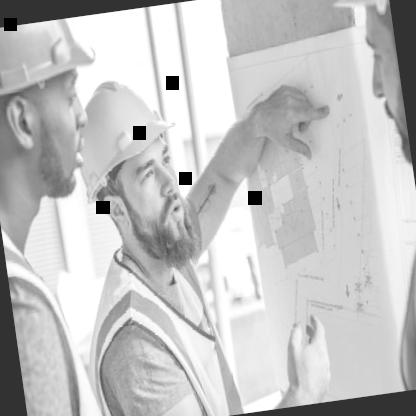helmet: (62, 54, 202, 278), (0, 13, 129, 233), (326, 0, 414, 191)
